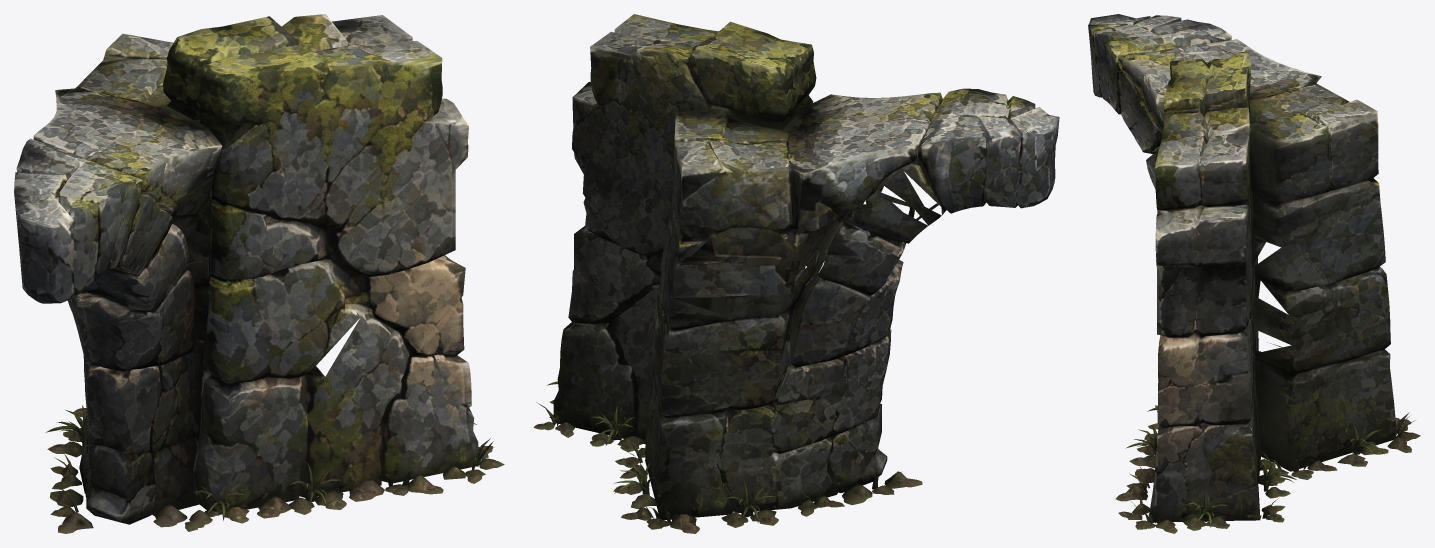
The model's file is act1-a06-6-bridge-pier.glb.
3 renders of one model, left to right at view 1: azimuth 30°, elevation 25°; view 2: azimuth 150°, elevation 25°; view 3: azimuth 270°, elevation 25°, orthographic. The views are drawn at different scales.
Parts seen in each view (by area): view 1: act1-a06-6-bridge-pier; view 2: act1-a06-6-bridge-pier; view 3: act1-a06-6-bridge-pier.
Boxes of the visible parts, x1,y1,x2,y2 form: act1-a06-6-bridge-pier: (14,14,504,533); act1-a06-6-bridge-pier: (533,14,1059,533); act1-a06-6-bridge-pier: (1088,14,1420,533).
Bounding box in the file's own units: 5.96 × 5 × 4.04.
Materials: 1 (1 with a texture image).
